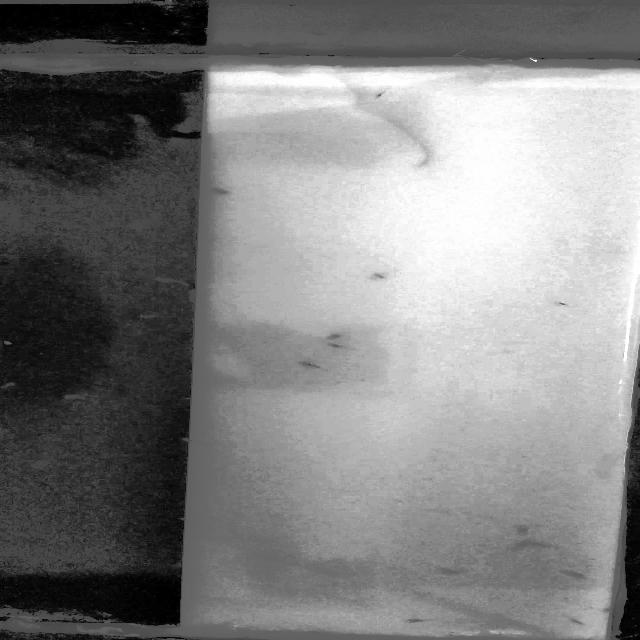shrimp: (429, 560, 478, 577), (400, 614, 439, 631), (297, 357, 327, 377), (564, 566, 594, 584), (507, 537, 535, 554), (550, 296, 578, 313), (206, 182, 233, 196), (321, 340, 358, 349)
